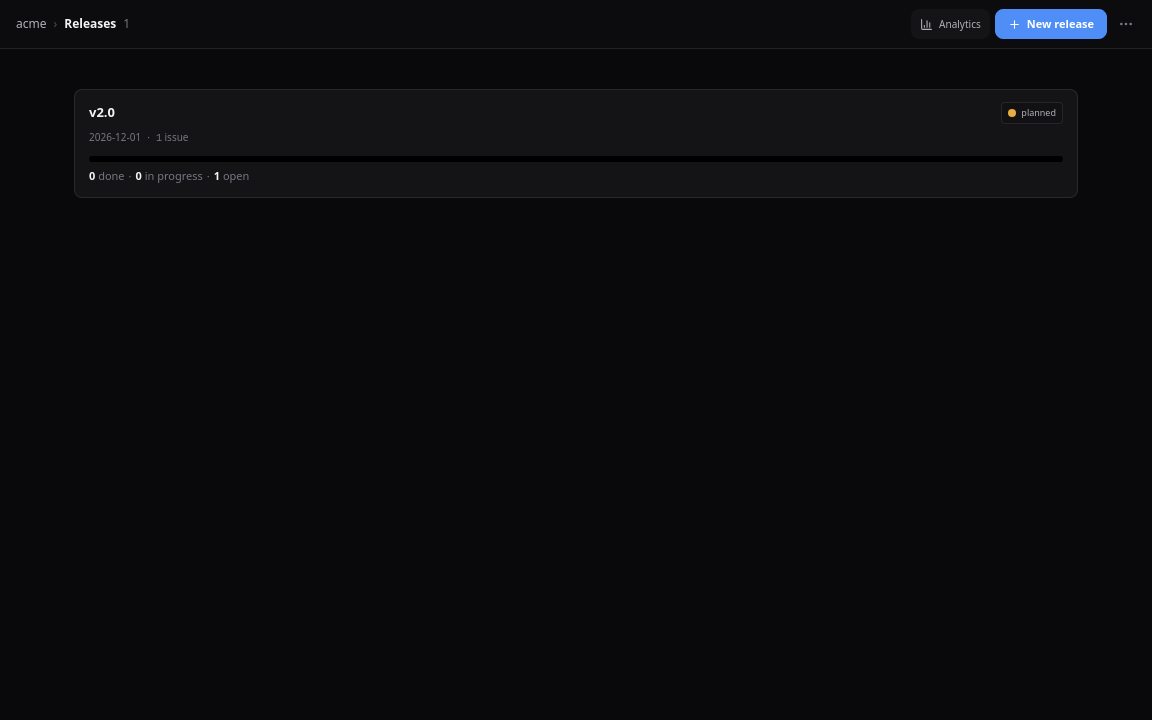
Test case: Release notes dialog › shows an error when notes fail to load
This screenshot has width=1152, height=720.
Click the button with aria-label "Open release v2.0": click(1032, 113) left=74, top=89, right=1078, bottom=198
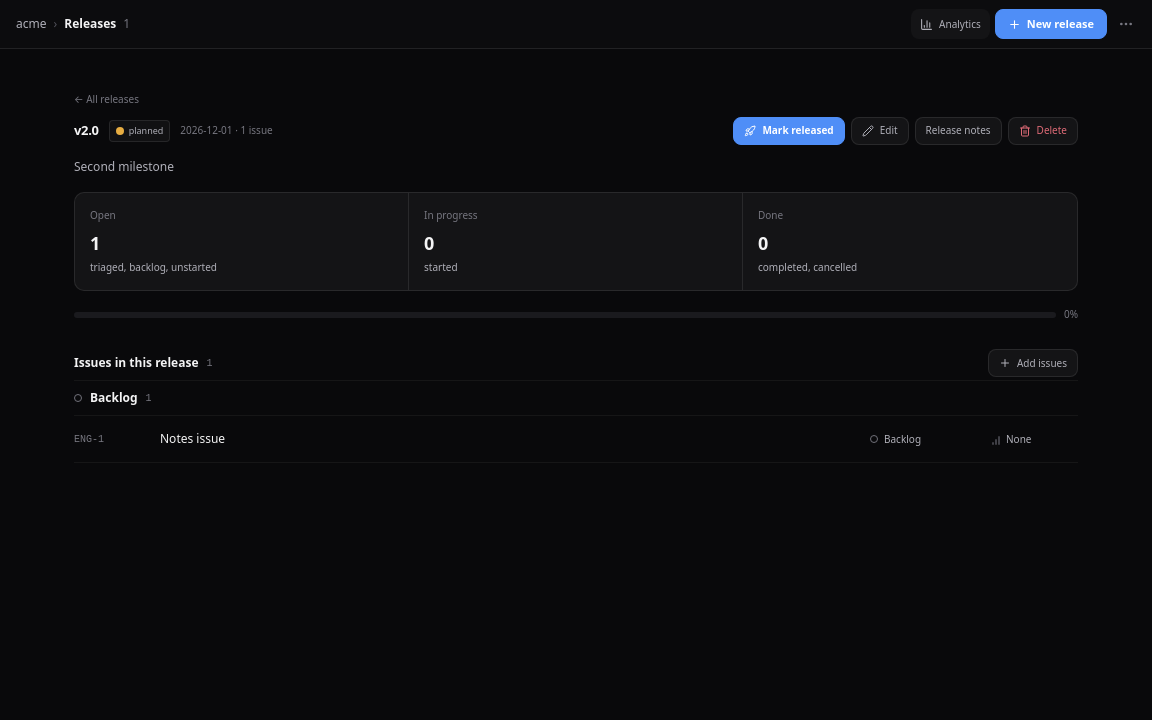
Click the button "Release notes": click(958, 130) left=915, top=116, right=1002, bottom=144
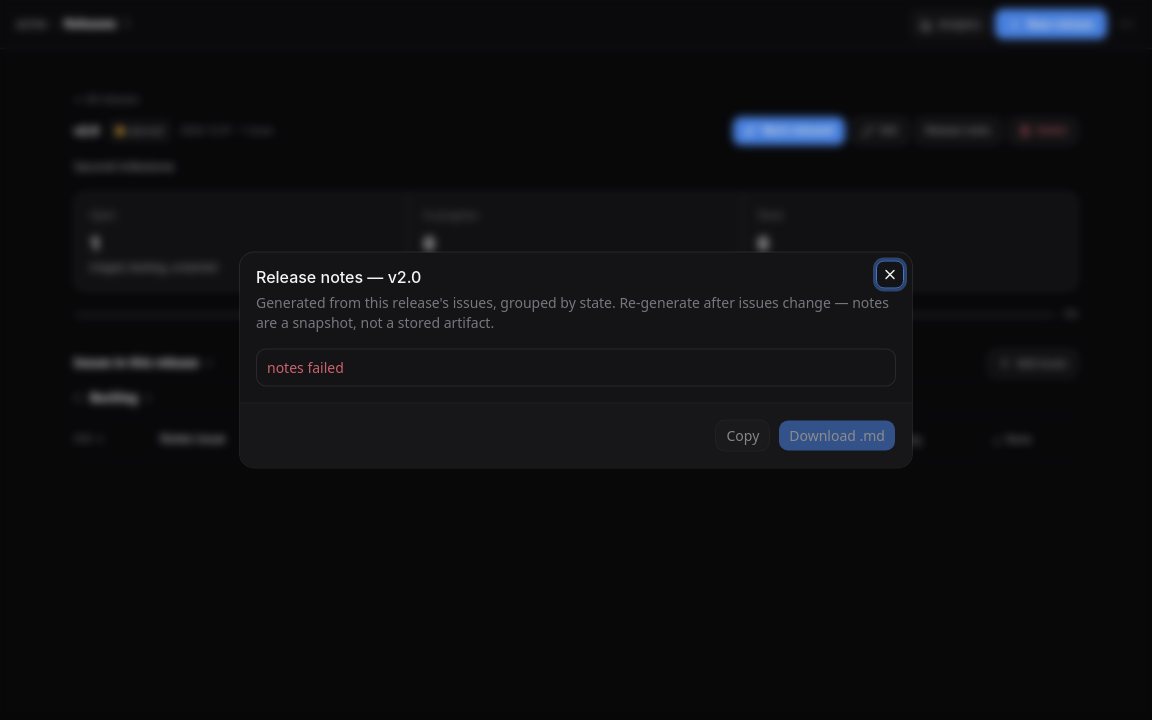
Now the text "notes failed" is shown, box left=267, top=358, right=344, bottom=376
